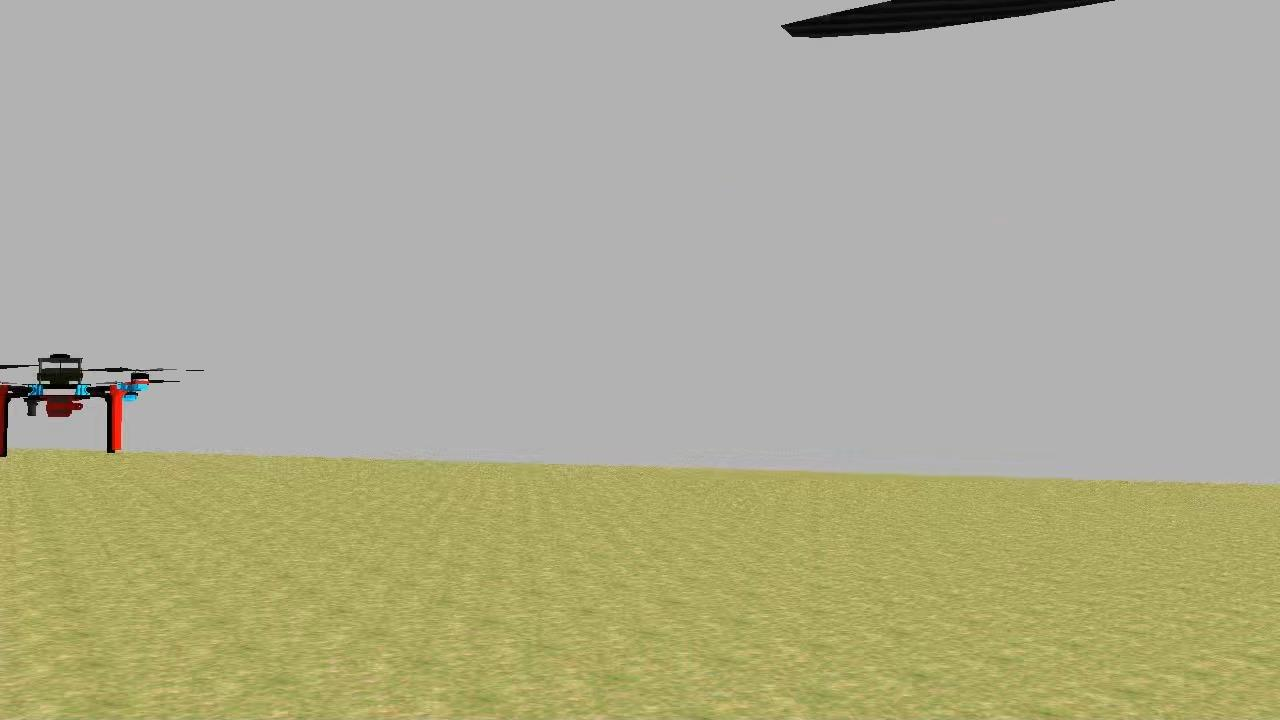UAV: (0, 340, 170, 477)
